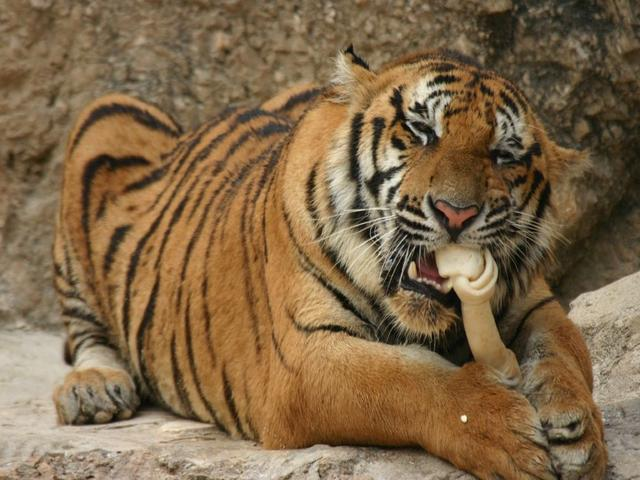tiger: (33, 34, 591, 480)
